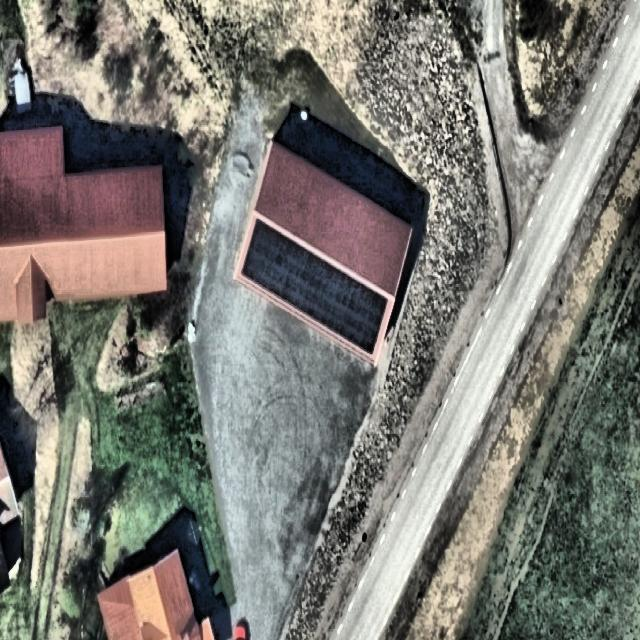roof_pv: (239, 217, 293, 309), (336, 262, 388, 356), (295, 230, 337, 331)
